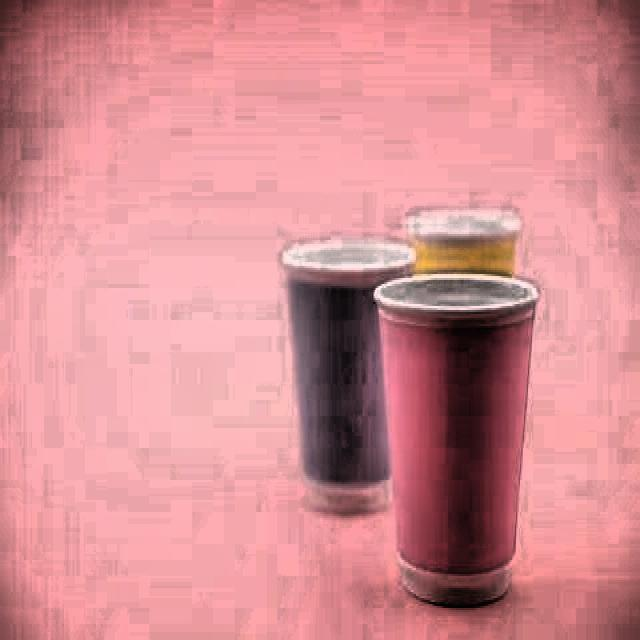Cup: (376, 269, 540, 620), (276, 227, 414, 513)
